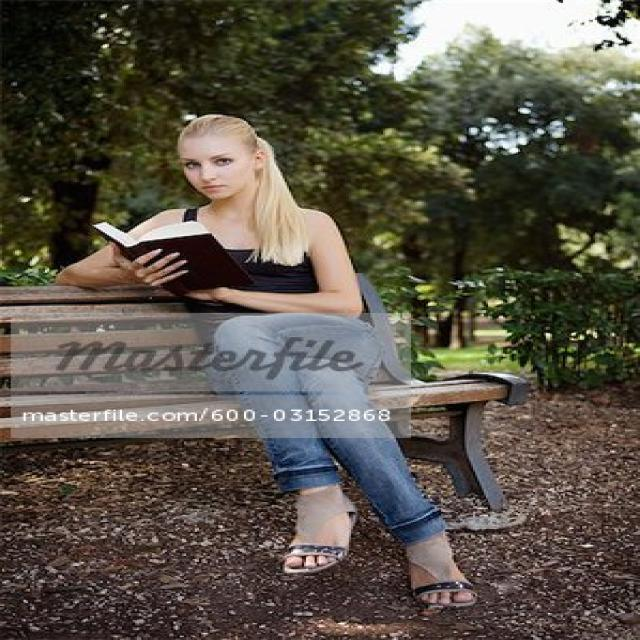sit: (145, 84, 464, 599)
